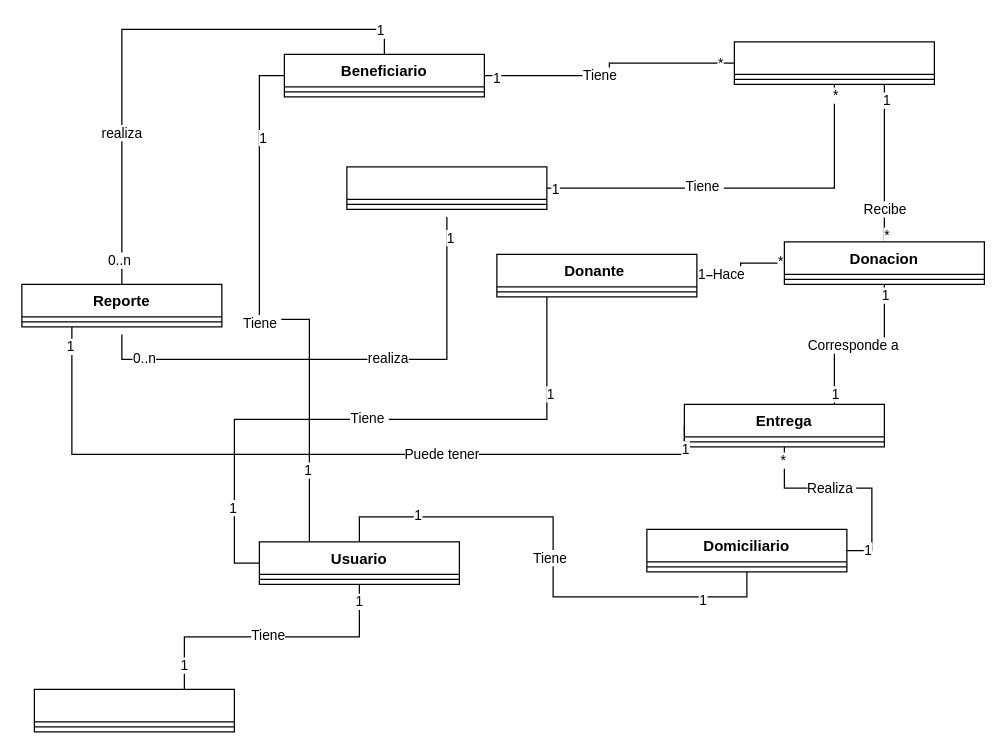
The diagram is 1006 pixels wide and 754 high, and some of its shapes have lost their labels. Each missing label, with the box of its shape:
Campaña Solitaria: (733, 41, 934, 84)
Entidad Social: (346, 166, 547, 209)
Verificador: (33, 688, 234, 732)
